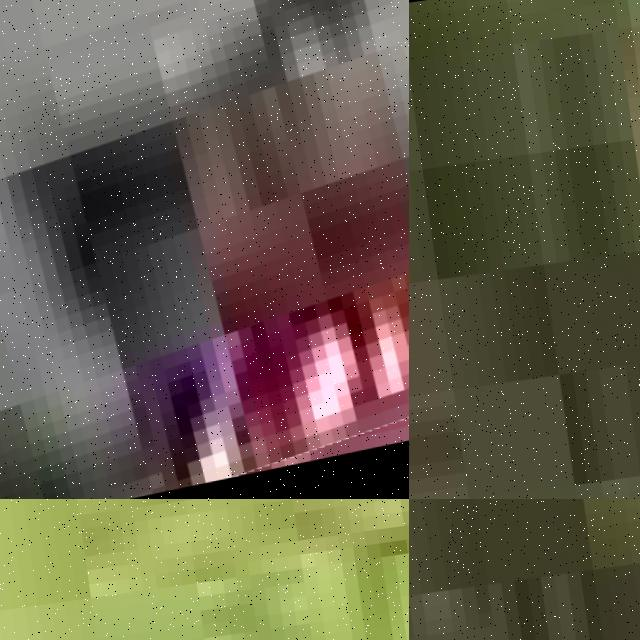drone: (0, 0, 409, 499)
